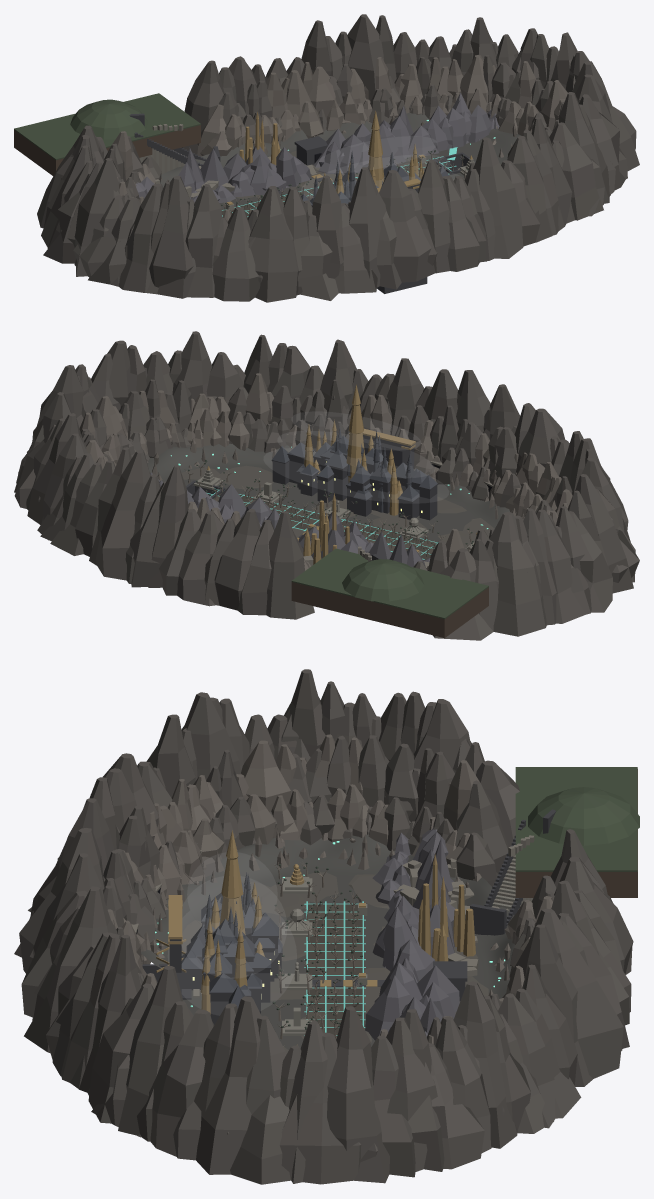
File: knyan-map.glb
3 renders of one model, top to bottom at view 1: azimuth 30°, elevation 25°; view 2: azimuth 150°, elevation 25°; view 3: azimuth 270°, elevation 25°, orthographic. The views are drawn at different scales.
Visible parts, largest first — view 1: Cliff_A, Cliff_B, Mountain, Grass, Terrain, Gold, Basalt, Earth, Slate, Ruin, Temple_Stone, Haze (+2 smaller); view 2: Cliff_A, Cliff_B, Grass, Terrain, Basalt, Gold, Earth, Slate, Mountain, Damp, Trunk, Temple_Stone (+5 smaller); view 3: Cliff_A, Cliff_B, Terrain, Grass, Mountain, Gold, Basalt, Damp, Slate, Haze, Temple_Stone, Field_A (+6 smaller).
Part boxes in pixels (x1,y1,x2,y2): Cliff_A: (37, 14, 639, 302); Cliff_B: (109, 55, 567, 221); Mountain: (136, 92, 499, 202); Grass: (14, 93, 200, 160); Terrain: (160, 112, 521, 209); Gold: (226, 111, 472, 205); Basalt: (129, 113, 475, 293); Earth: (14, 125, 200, 175); Slate: (301, 151, 449, 204); Ruin: (139, 124, 317, 198); Temple_Stone: (140, 148, 474, 209); Haze: (307, 154, 424, 197); Cliff_A: (14, 331, 639, 640); Cliff_B: (79, 373, 572, 570); Grass: (291, 548, 488, 619); Terrain: (147, 443, 509, 559); Basalt: (186, 435, 438, 560); Gold: (207, 384, 477, 564); Earth: (291, 582, 488, 637); Slate: (272, 427, 437, 512); Mountain: (150, 472, 430, 567); Damp: (181, 465, 494, 566); Trunk: (184, 462, 472, 556); Temple_Stone: (193, 469, 474, 555); Cliff_A: (14, 669, 633, 1184); Cliff_B: (107, 734, 553, 1043); Terrain: (141, 834, 515, 1050); Grass: (515, 767, 639, 871); Mountain: (365, 828, 459, 1040); Gold: (156, 830, 475, 1044); Basalt: (142, 809, 555, 1024); Damp: (181, 872, 488, 1053); Slate: (181, 872, 282, 1008); Haze: (181, 876, 287, 978); Temple_Stone: (282, 854, 532, 1035); Field_A: (308, 904, 362, 1034).
Size of the model in its own units: 130 by 34.5 by 87.08.
